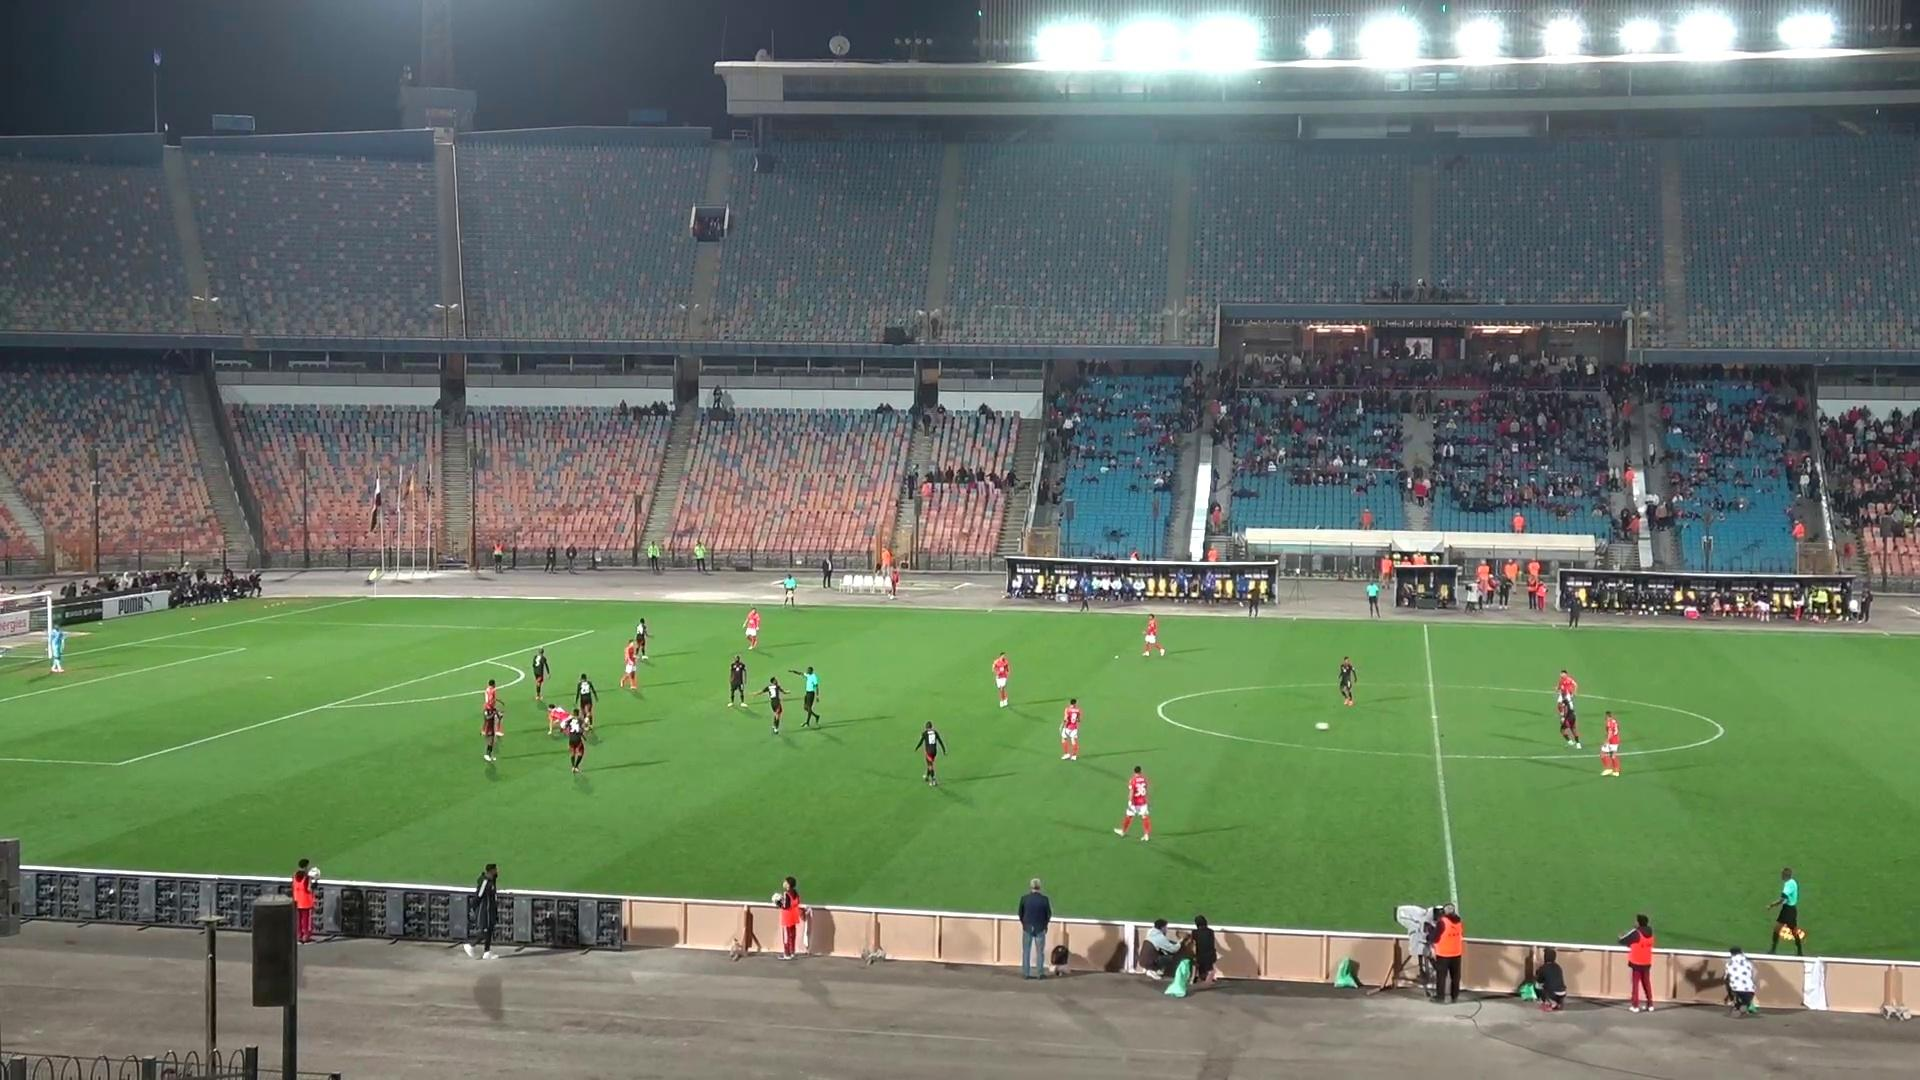Ball: (1313, 723, 1331, 732)
GK2: (47, 622, 67, 673)
Refree: (1768, 866, 1807, 955), (790, 666, 819, 727), (1364, 579, 1382, 618), (778, 574, 796, 605)
Team1: (1114, 765, 1150, 840), (1600, 711, 1621, 777), (1060, 699, 1083, 760), (618, 636, 641, 691), (992, 651, 1011, 708), (1142, 615, 1166, 655), (1556, 669, 1578, 709), (547, 705, 572, 736), (744, 607, 758, 650), (483, 679, 498, 712)
Team2: (1553, 673, 1582, 749), (560, 711, 589, 774), (916, 723, 945, 786), (761, 676, 785, 735), (481, 700, 502, 762), (572, 675, 597, 723), (725, 654, 746, 705), (531, 649, 550, 702), (1338, 655, 1357, 705), (634, 617, 650, 669)
